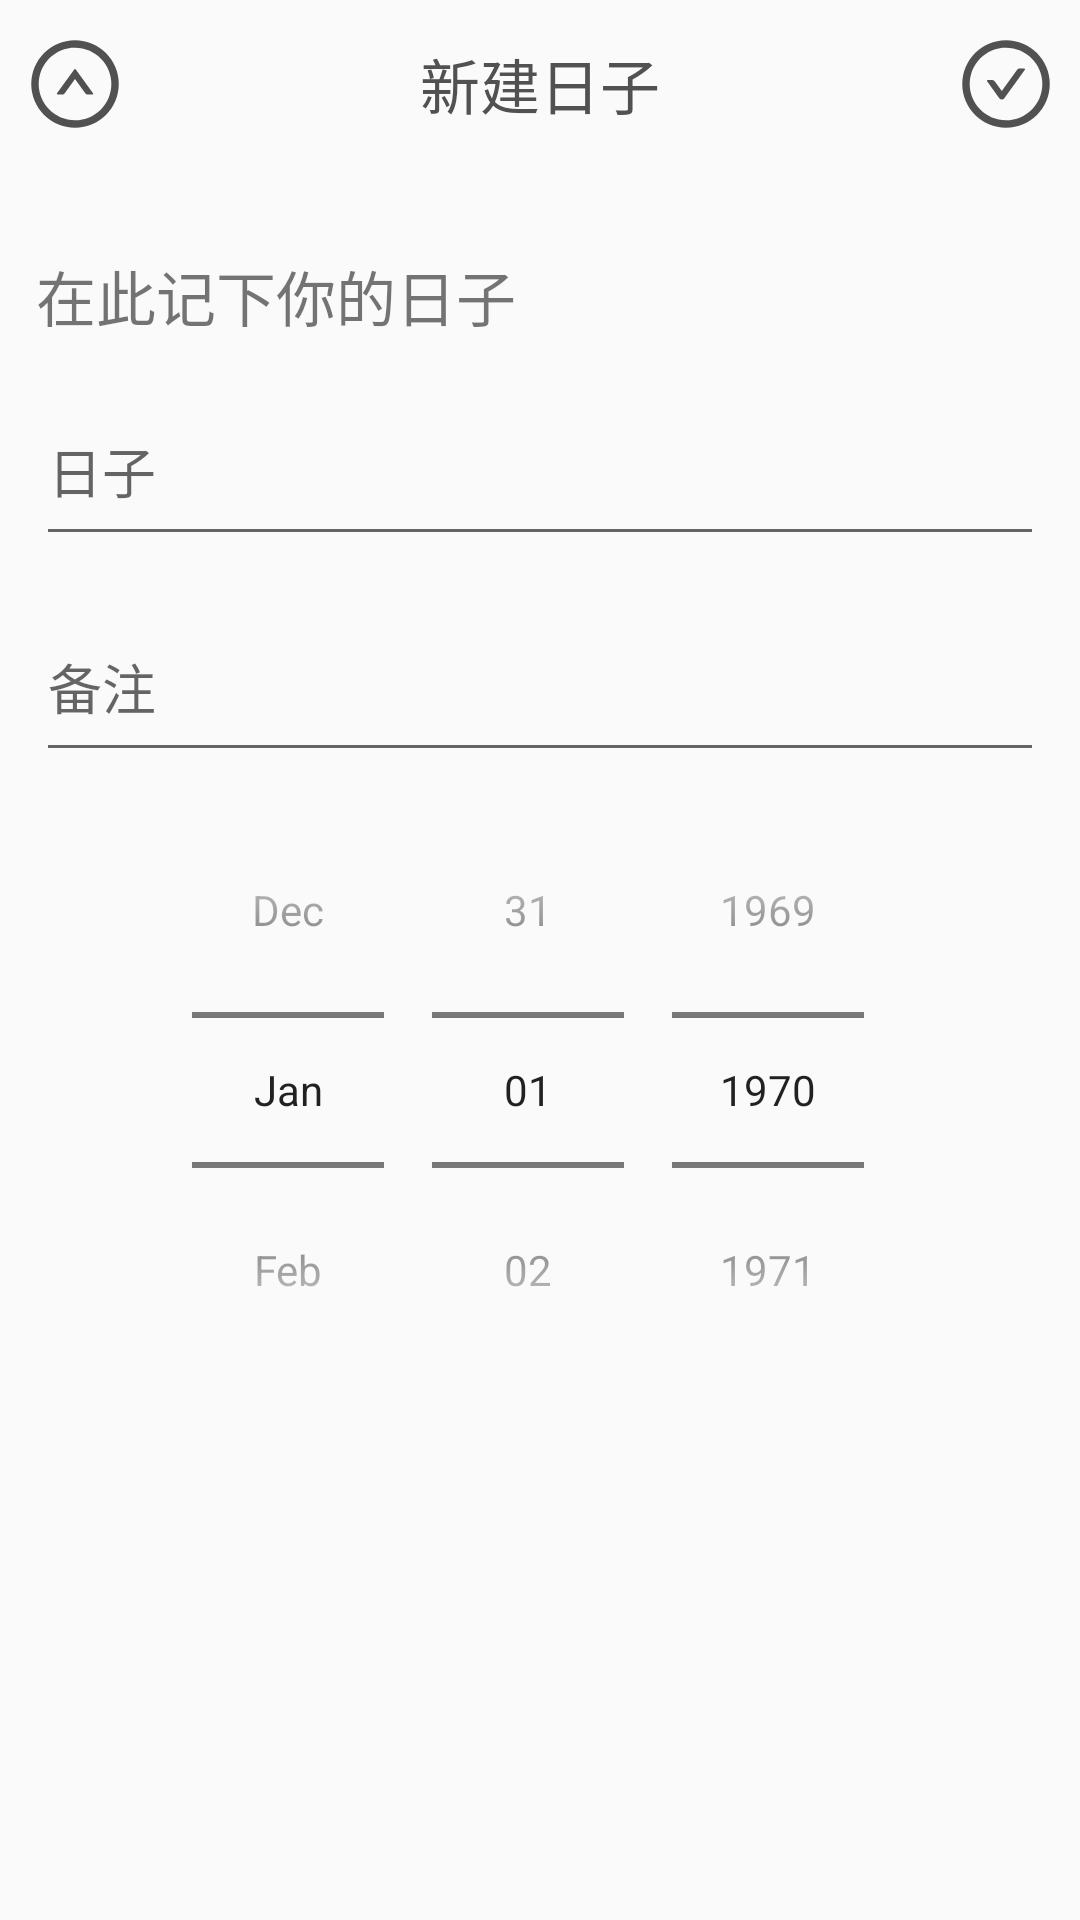

Where to tap for icons on this 1080×1920 app screen, as [x,y]:
check circle: [1006,84]
